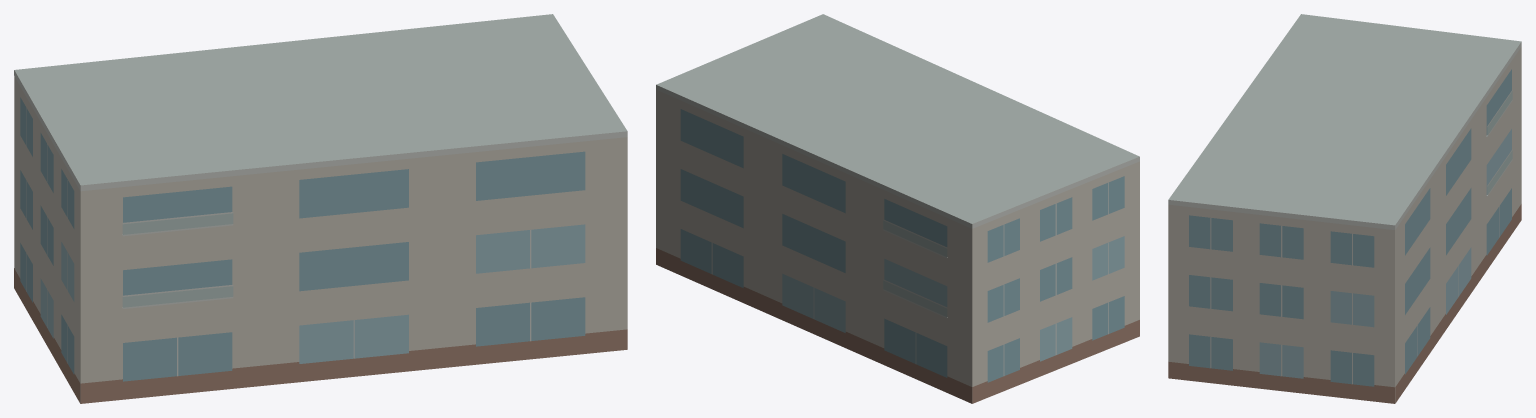
Rendered from survey-upis-32872776.glb.
3 views of the same model, side by side, from view 1: azimuth 30°, elevation 25°; view 2: azimuth 150°, elevation 25°; view 3: azimuth 270°, elevation 25° (orthographic). The views are drawn at different scales.
Visible parts, largest first — view 1: survey-upis-32872776.tmp; view 2: survey-upis-32872776.tmp; view 3: survey-upis-32872776.tmp.
Boxes of the visible parts, box(x1,y1,x2,y2) form: survey-upis-32872776.tmp: box(14, 14, 627, 403); survey-upis-32872776.tmp: box(656, 14, 1139, 403); survey-upis-32872776.tmp: box(1168, 14, 1521, 403).
Bounding box in the file's own units: 23.25 × 9.15 × 16.43.
